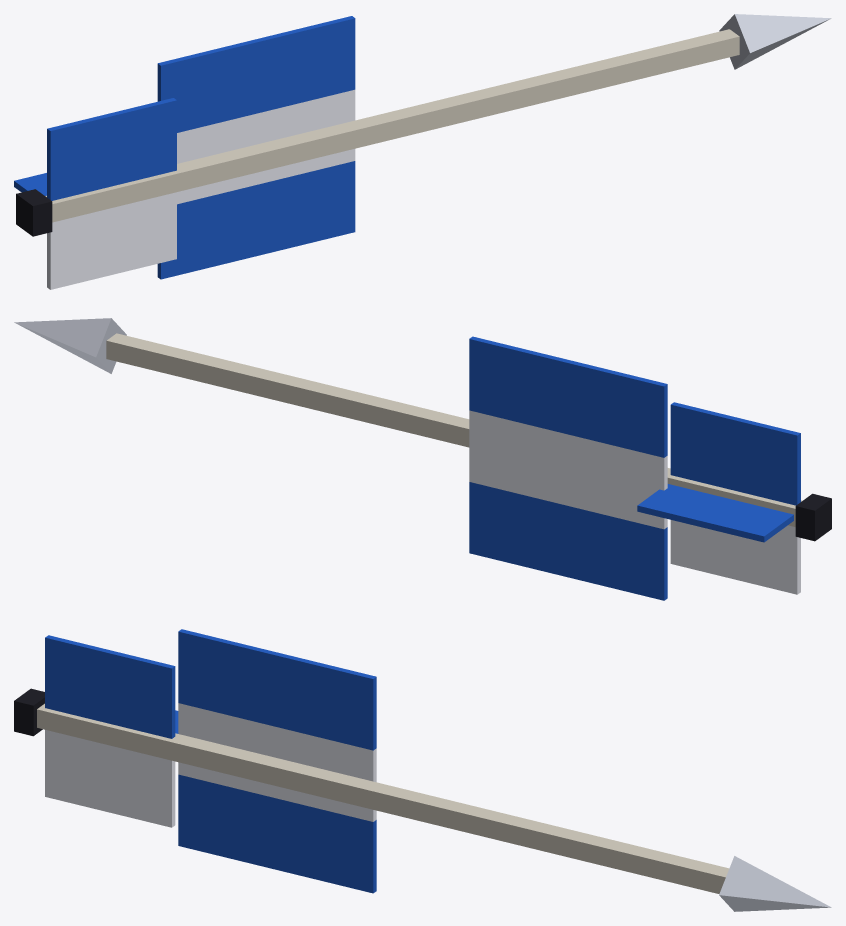
Rendered from fleche_banniere.glb.
3 views of the same model, one above another, from view 1: azimuth 30°, elevation 25°; view 2: azimuth 150°, elevation 25°; view 3: azimuth 330°, elevation 25° (orthographic).
Visible parts, largest first — view 1: p_box.3471, p_box.3476, p_box.3478, p_box.3472, p_box.3473, p_box.3477, p_cone.018, p_box.3475; view 2: p_box.3476, p_box.3478, p_box.3477, p_box.3471, p_box.3472, p_box.3473, p_box.3474, p_cone.018, p_box.3475; view 3: p_box.3471, p_box.3476, p_box.3478, p_box.3472, p_box.3473, p_box.3477, p_cone.018, p_box.3475.
Boxes of the visible parts, bbox=[...] form: p_box.3471: bbox=[45, 29, 739, 222]; p_box.3476: bbox=[157, 16, 355, 132]; p_box.3478: bbox=[157, 161, 355, 279]; p_box.3472: bbox=[47, 98, 176, 200]; p_box.3473: bbox=[47, 192, 176, 289]; p_box.3477: bbox=[177, 89, 355, 204]; p_cone.018: bbox=[719, 14, 831, 69]; p_box.3475: bbox=[16, 189, 52, 236]; p_box.3476: bbox=[469, 336, 667, 457]; p_box.3478: bbox=[469, 482, 667, 600]; p_box.3477: bbox=[469, 410, 667, 529]; p_box.3471: bbox=[106, 333, 802, 526]; p_box.3472: bbox=[670, 402, 800, 505]; p_box.3473: bbox=[670, 520, 800, 594]; p_box.3474: bbox=[637, 484, 793, 542]; p_cone.018: bbox=[14, 318, 126, 373]; p_box.3475: bbox=[795, 493, 831, 541]; p_box.3471: bbox=[37, 703, 729, 893]; p_box.3476: bbox=[178, 629, 376, 750]; p_box.3478: bbox=[178, 774, 376, 893]; p_box.3472: bbox=[45, 635, 175, 738]; p_box.3473: bbox=[45, 730, 175, 827]; p_box.3477: bbox=[178, 703, 376, 821]; p_cone.018: bbox=[719, 856, 831, 911]; p_box.3475: bbox=[14, 688, 44, 736].
Size of the model in its own units: 0.83 by 0.21 by 0.0895.
